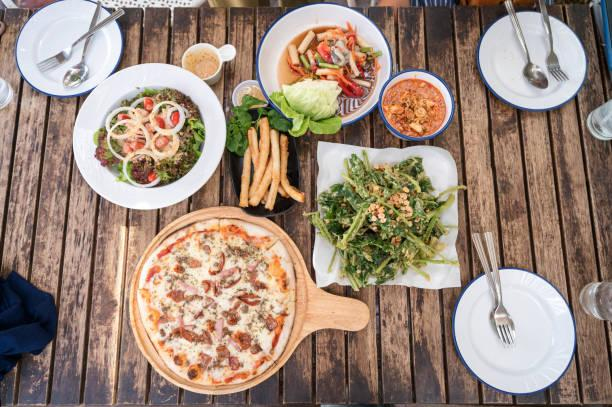Braised Crucian Carp: (128, 205, 364, 393), (311, 140, 458, 287), (73, 64, 224, 207), (255, 2, 389, 131), (226, 108, 298, 215), (377, 68, 455, 142)
